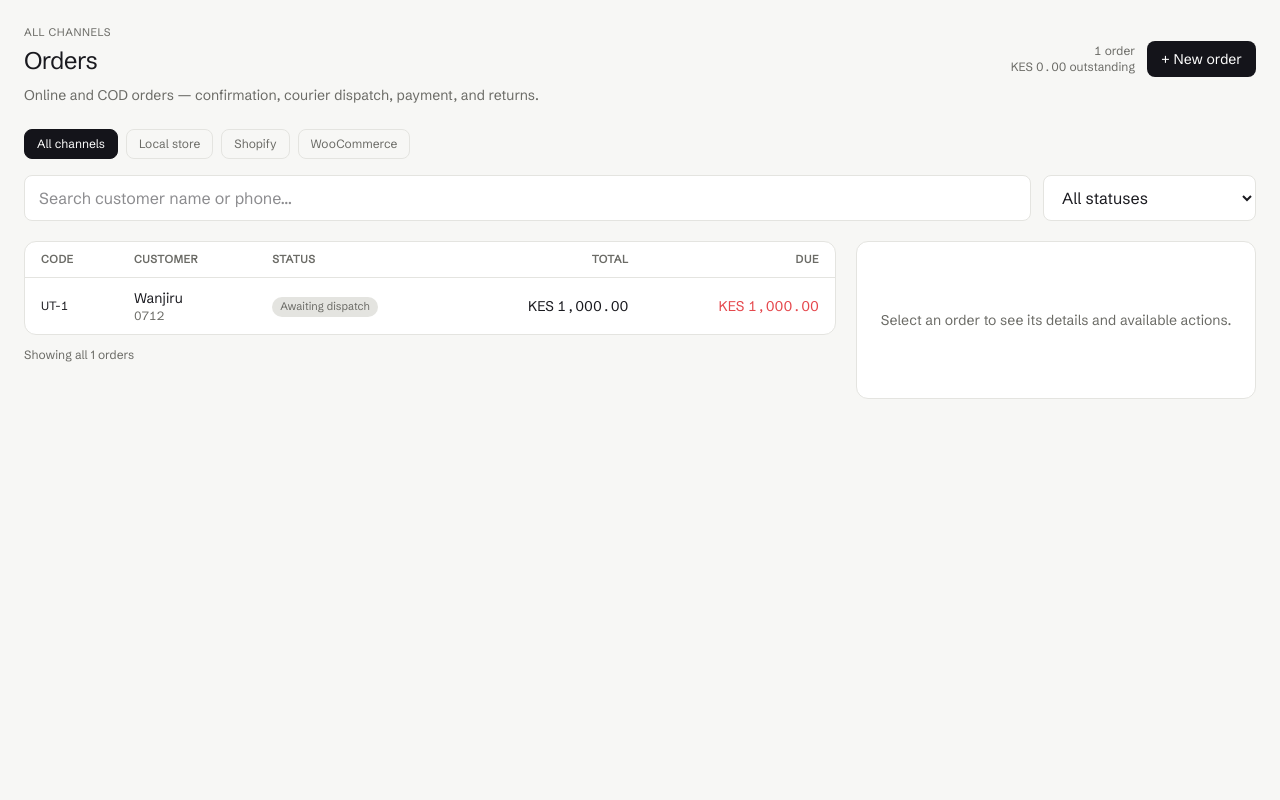
Test case: Orders admin views › does not offer shop cash on an order that cannot take a payment
Click the text "Wanjiru".
click(158, 298)  # box [134,289,183,307]
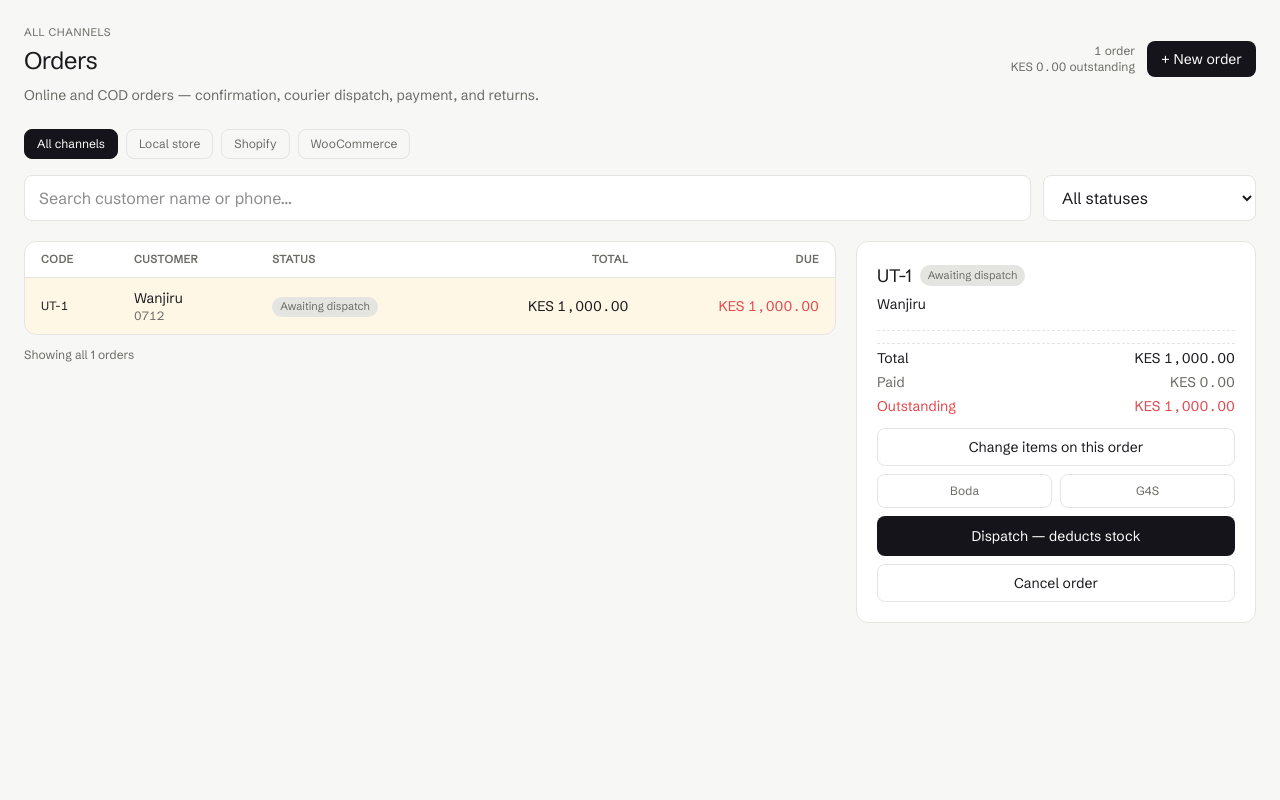
expect the button "Dispatch — deducts stock" is shown: met, box [877,516,1235,556]
